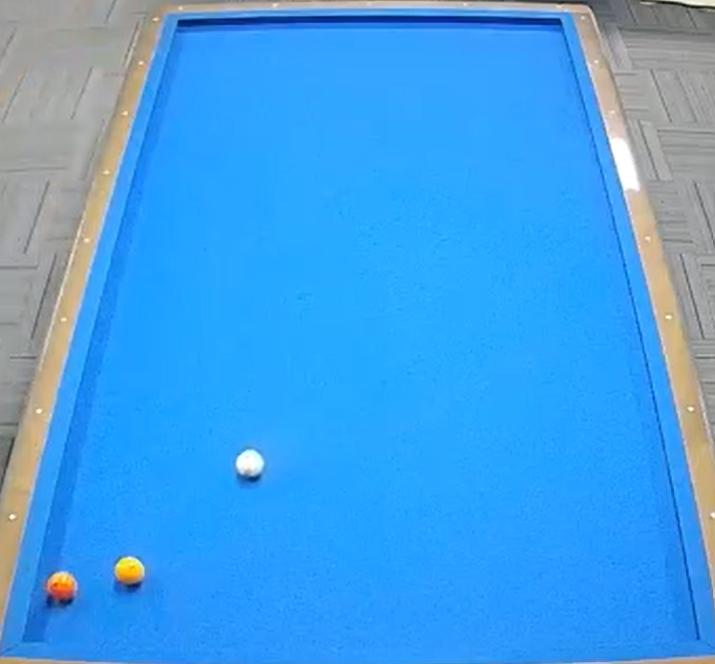orange ball: (44, 565, 81, 613)
white ball: (229, 442, 271, 486)
yellow ball: (109, 550, 153, 599)
